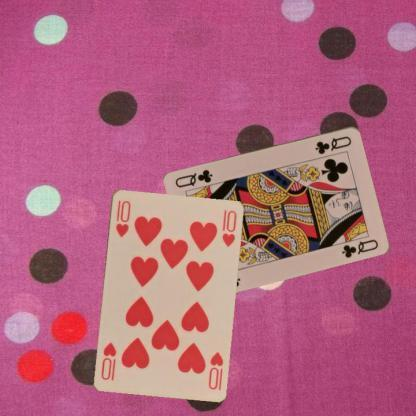10h: (205, 349, 224, 391), (113, 198, 132, 238)
Qc: (313, 132, 353, 156)
